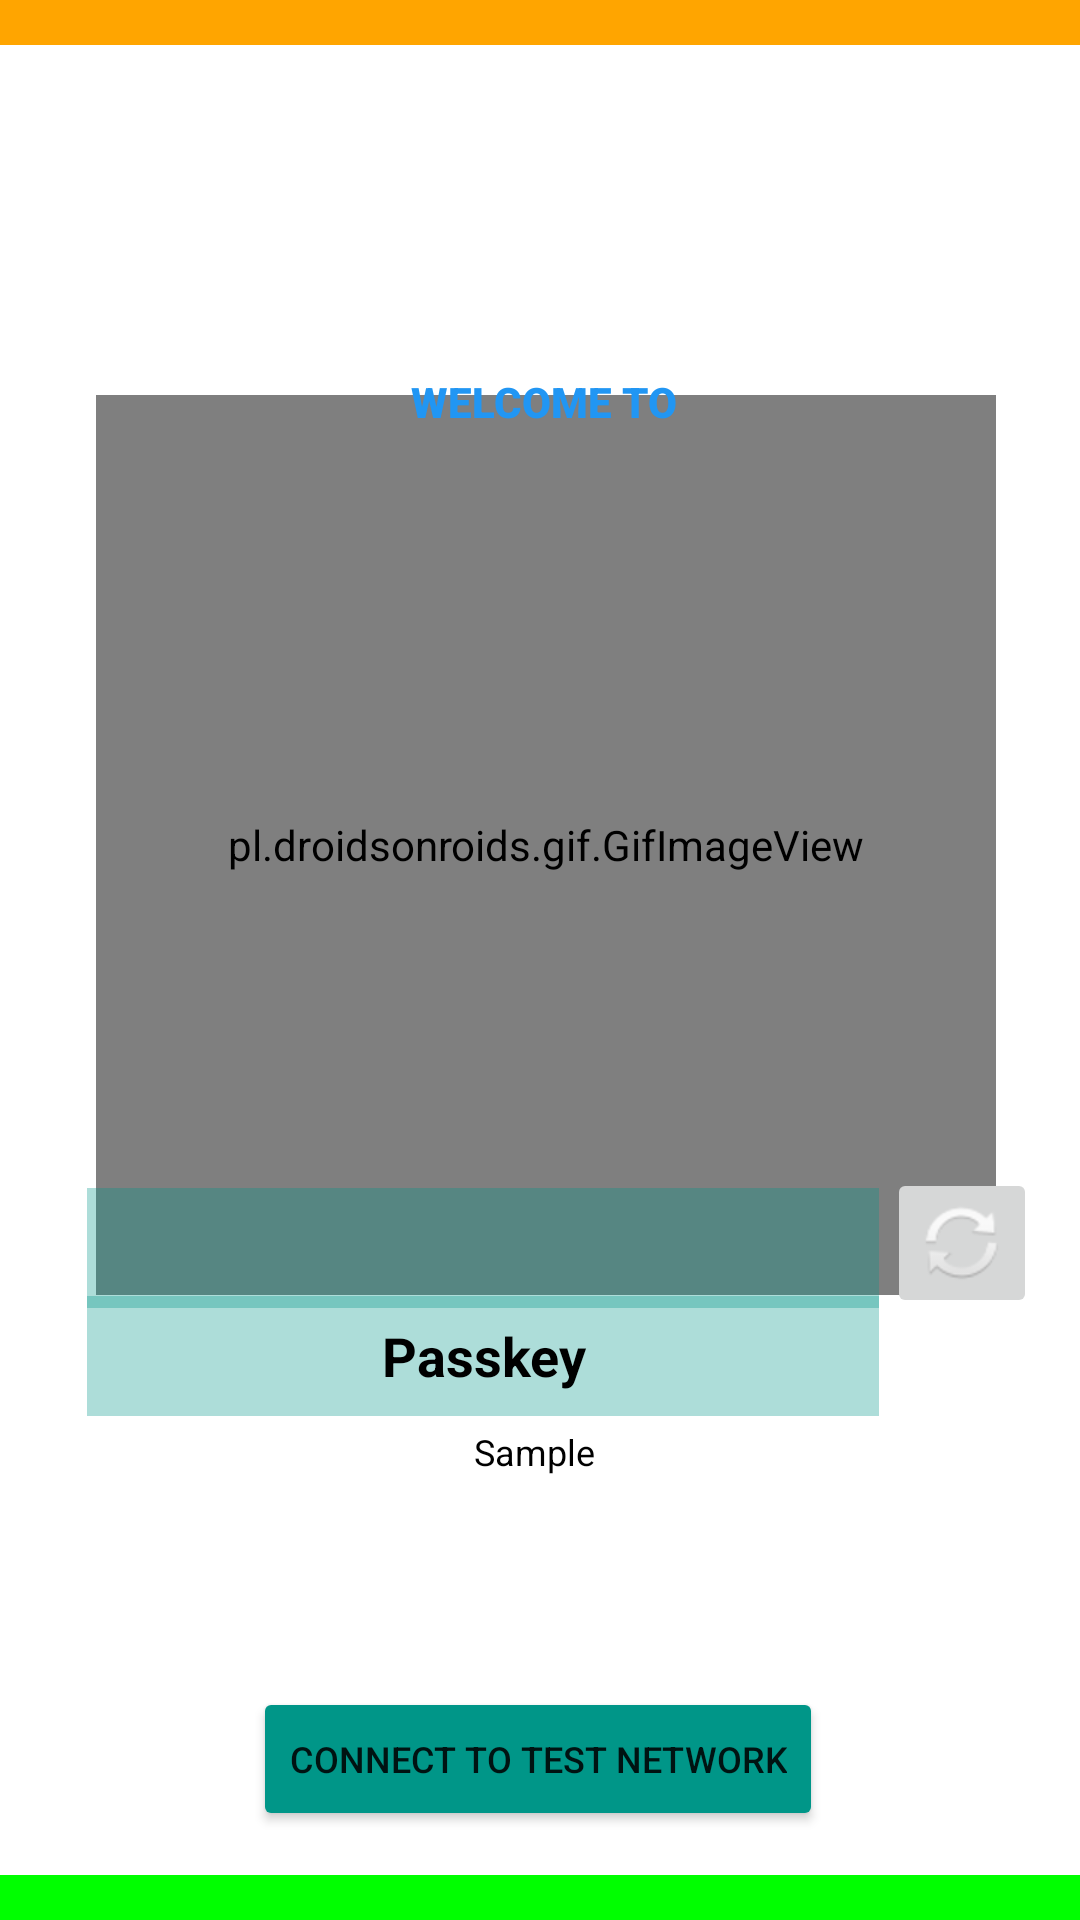

Locate icon controls on the screen. Image size 1080w x 1920h, boxes as (x1, y1, x2, y2).
popup sync: (887, 1168, 1025, 1300)
